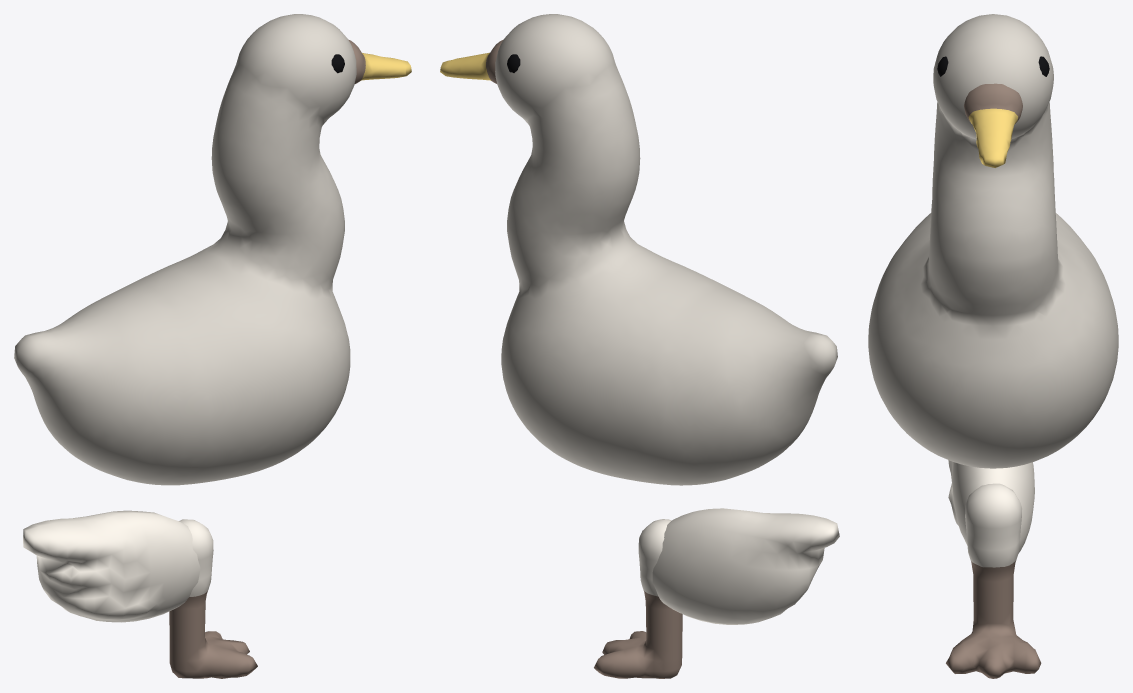
The model's file is swan_baby.glb.
The picture shows the model from 3 angles, left to right: view 1: azimuth 30°, elevation 25°; view 2: azimuth 150°, elevation 25°; view 3: azimuth 270°, elevation 25°; orthographic projection. The views are drawn at different scales.
Parts seen in each view (by area): view 1: body, wing, leg, beak; view 2: body, wing, leg, beak; view 3: body, leg, beak, wing.
Part boxes in pixels (bbox=[...]): body: bbox=[14, 14, 356, 485]; wing: bbox=[23, 510, 200, 622]; leg: bbox=[169, 519, 257, 678]; beak: bbox=[348, 39, 411, 83]; body: bbox=[495, 14, 837, 485]; wing: bbox=[652, 508, 839, 624]; leg: bbox=[594, 519, 682, 678]; beak: bbox=[440, 39, 503, 83]; body: bbox=[868, 14, 1118, 468]; leg: bbox=[946, 483, 1041, 678]; beak: bbox=[964, 83, 1022, 167]; wing: bbox=[948, 460, 1034, 553].
Size of the model in its own units: 1.81 by 2.78 by 0.911.
